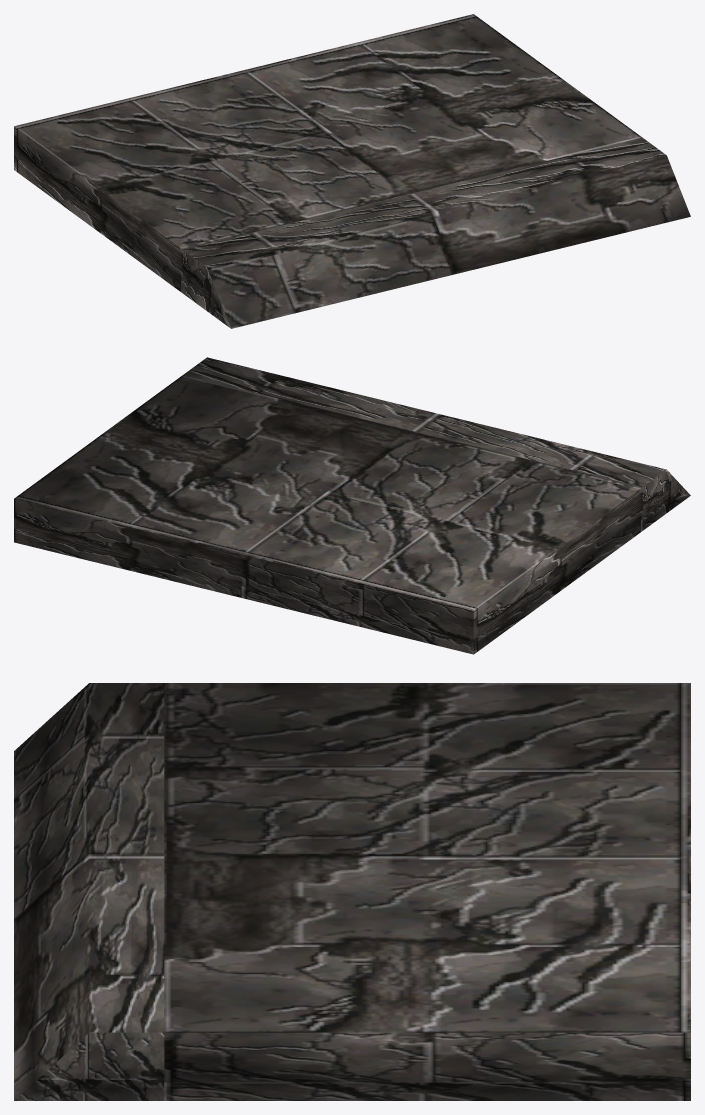
Rendered from INST_SM_DEBRIS_BLOCK_LARGEC.fbx.
3 renders of one model, top to bottom at view 1: azimuth 30°, elevation 25°; view 2: azimuth 150°, elevation 25°; view 3: azimuth 270°, elevation 25°, orthographic. The views are drawn at different scales.
Visible parts, largest first — view 1: INST_SM_DEBRIS_BLOCK_LARGEC; view 2: INST_SM_DEBRIS_BLOCK_LARGEC; view 3: INST_SM_DEBRIS_BLOCK_LARGEC.
Boxes of the visible parts, x1,y1,x2,y2 form: INST_SM_DEBRIS_BLOCK_LARGEC: (14,14,690,328); INST_SM_DEBRIS_BLOCK_LARGEC: (14,357,690,654); INST_SM_DEBRIS_BLOCK_LARGEC: (14,683,690,1100).
Bounding box in the file's own units: 110000 × 10000 × 90000.
1 material, 1 textured.
